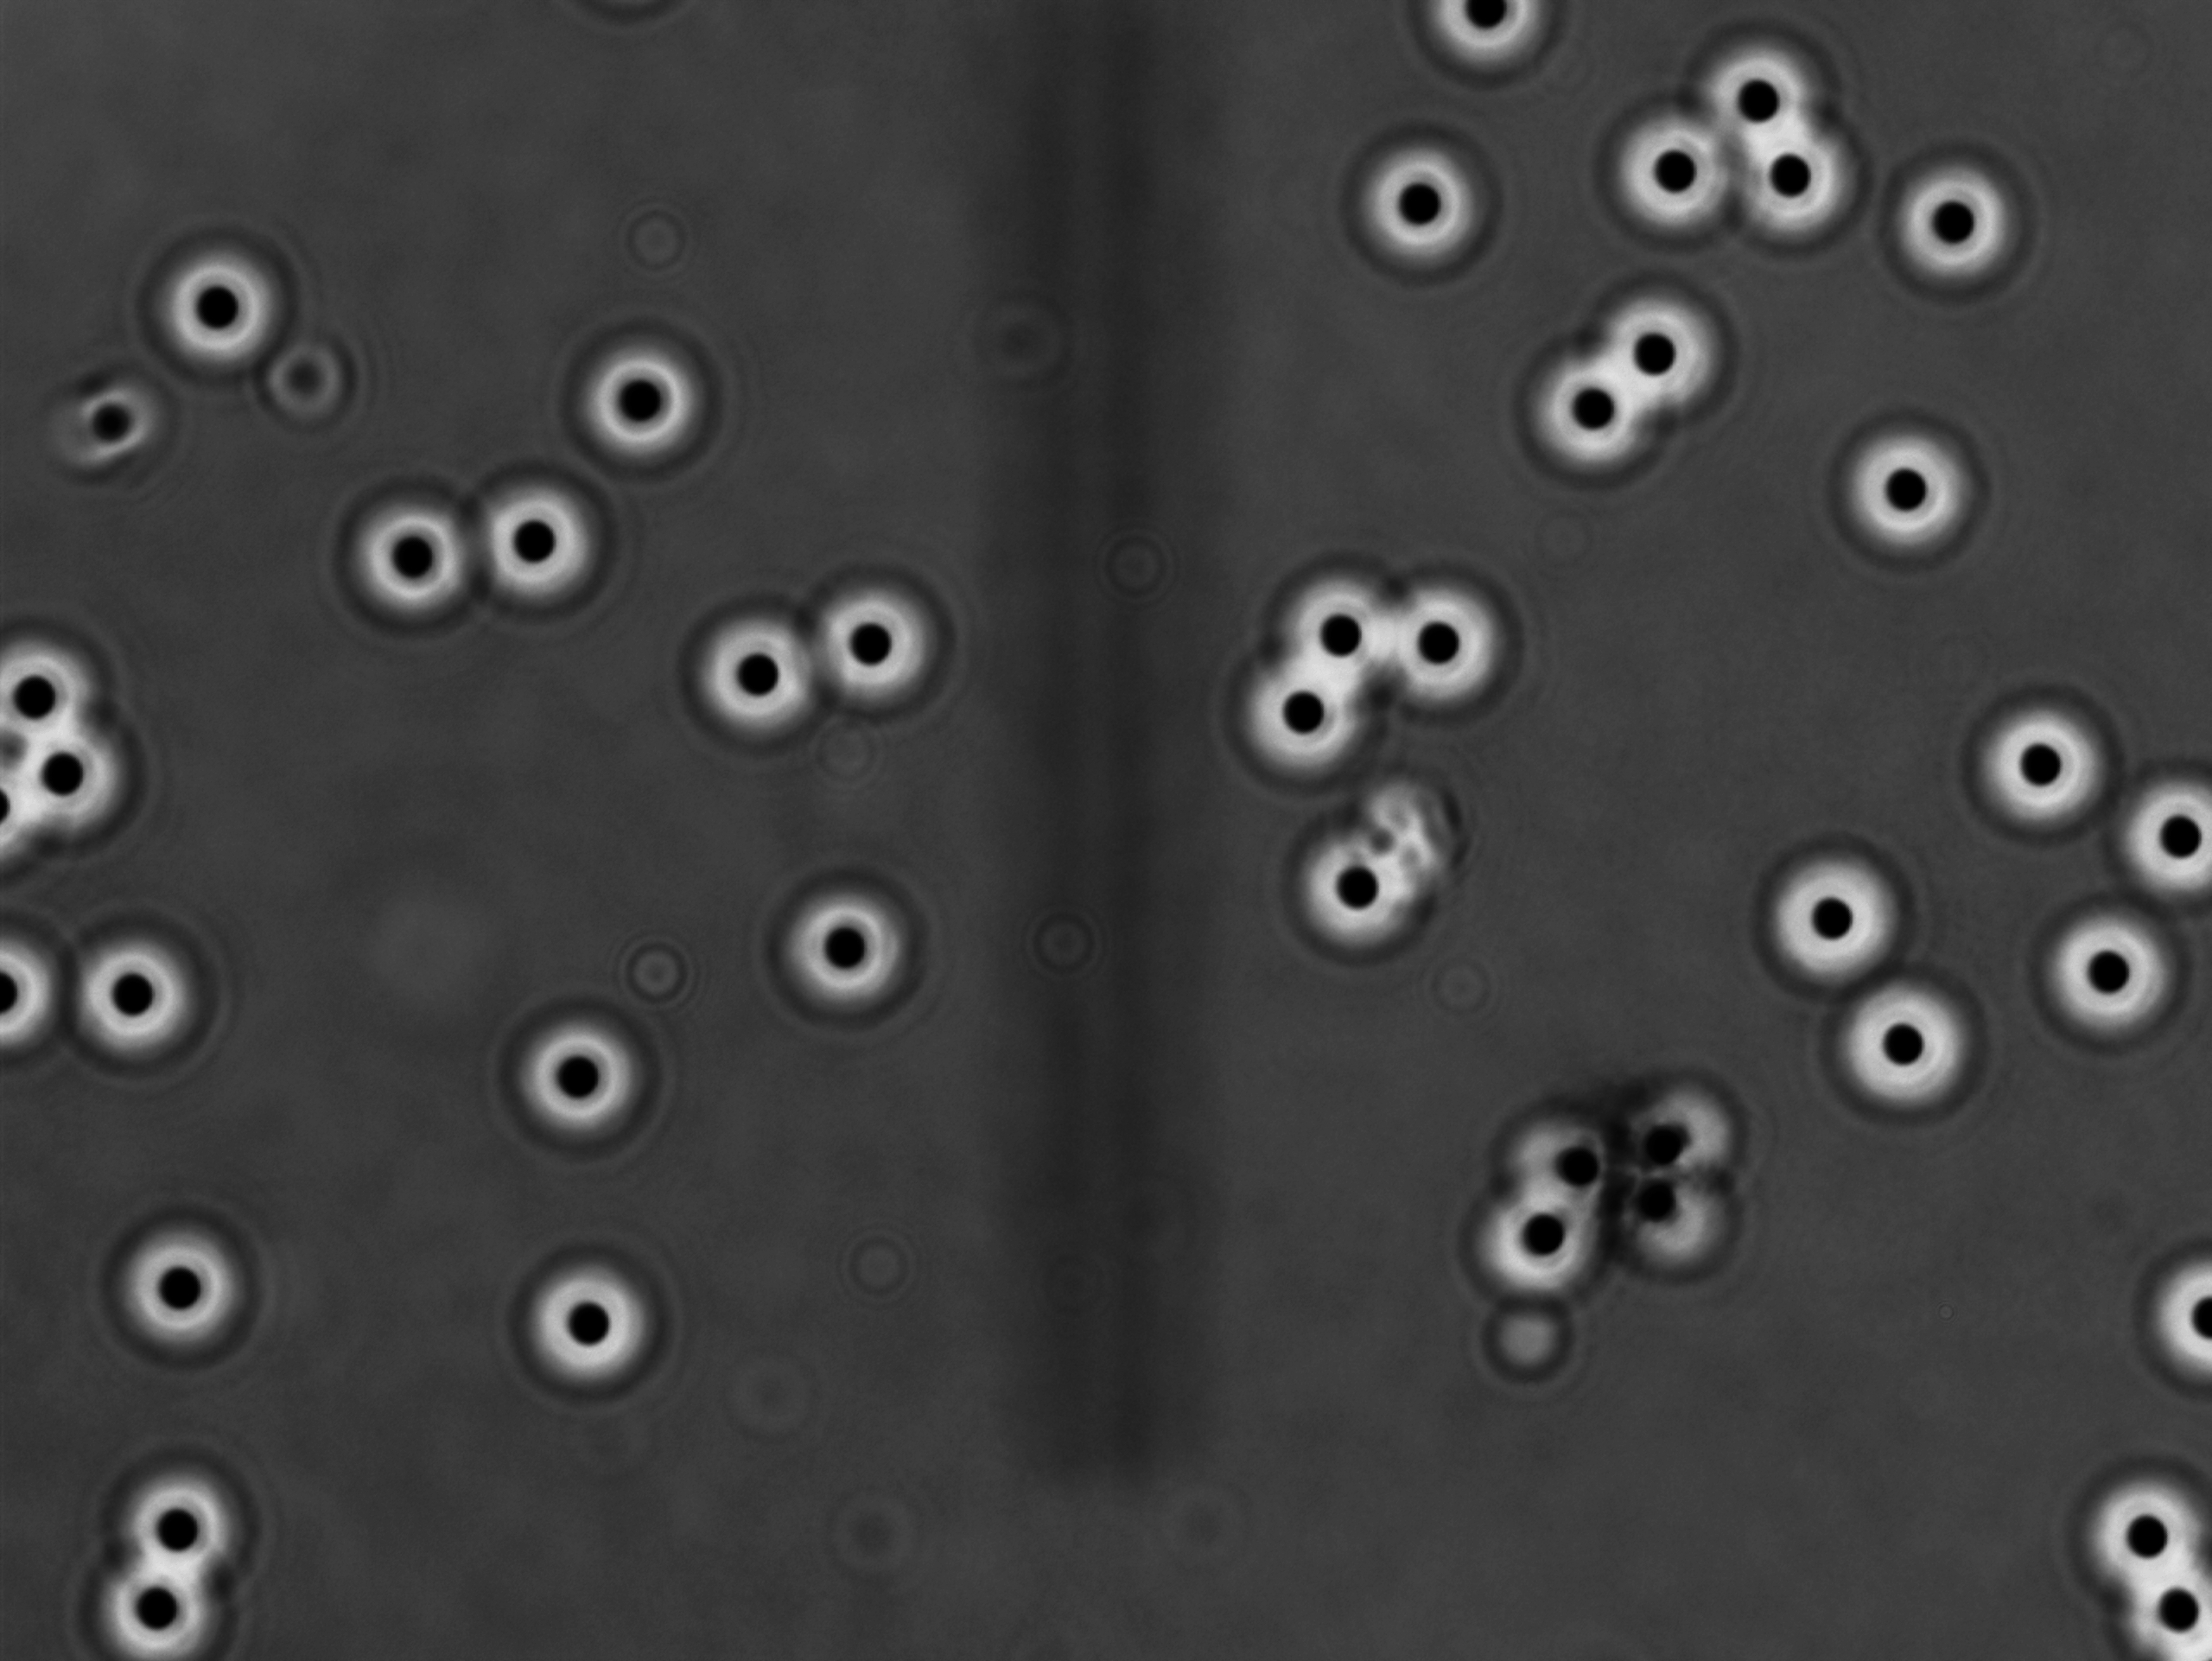depth:-40: (499, 1223, 684, 1405), (483, 995, 670, 1169), (2011, 883, 2195, 1057), (1833, 400, 2001, 590), (304, 478, 476, 660), (754, 867, 937, 1038), (1375, 544, 1540, 726), (1828, 961, 2001, 1129), (468, 448, 635, 619), (1964, 686, 2144, 844), (1333, 120, 1499, 288), (546, 319, 726, 473), (790, 569, 966, 722), (1270, 806, 1436, 968), (1762, 836, 1936, 989), (1879, 141, 2043, 304), (99, 1200, 260, 1359), (1265, 536, 1425, 694), (66, 925, 232, 1078), (136, 237, 286, 405), (1514, 323, 1675, 478), (665, 598, 823, 754), (1584, 267, 1755, 410), (106, 1452, 269, 1600), (1218, 649, 1382, 787), (2071, 1450, 2212, 1607), (1689, 17, 1844, 159), (1589, 96, 1738, 237), (1725, 108, 1867, 249), (58, 1548, 232, 1661), (2099, 764, 2212, 911)
